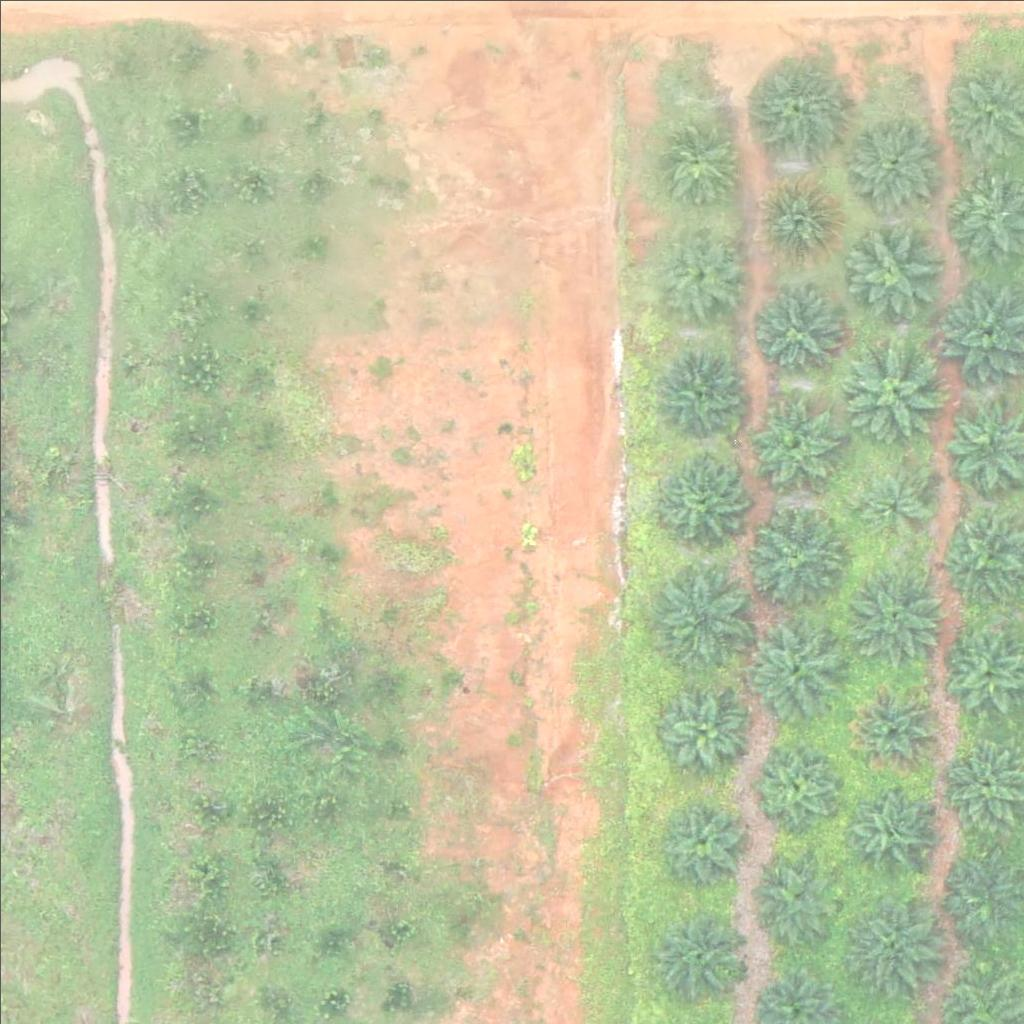Kelapa_Sawit: (841, 889, 941, 990), (837, 338, 937, 439), (839, 217, 939, 318), (841, 113, 941, 214), (742, 59, 842, 160), (652, 569, 752, 669), (747, 617, 847, 717), (745, 503, 845, 603), (842, 565, 942, 665), (651, 910, 739, 998), (655, 796, 743, 884), (654, 686, 742, 774), (747, 399, 835, 487), (753, 289, 841, 377), (753, 178, 841, 266), (648, 115, 736, 203), (750, 854, 837, 942), (845, 782, 932, 870), (655, 449, 742, 537), (654, 352, 741, 440), (655, 226, 742, 314), (753, 743, 840, 831), (849, 685, 936, 773), (855, 461, 930, 537)
